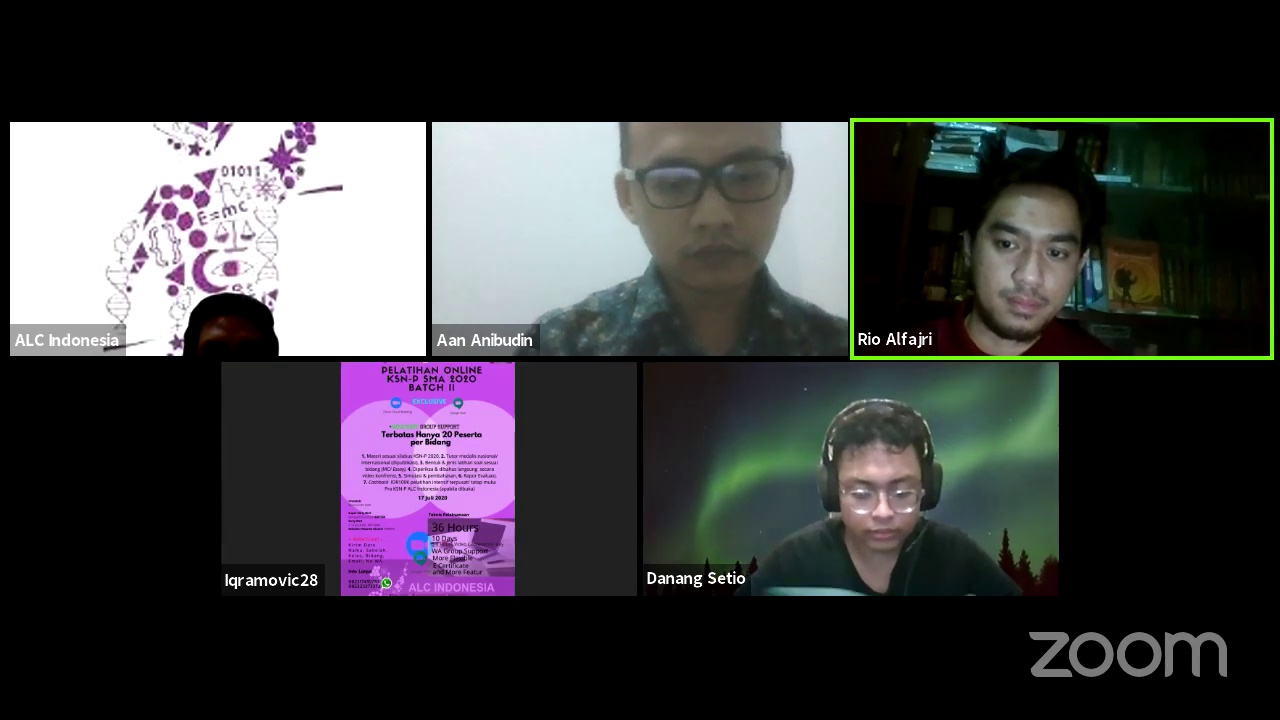Distracted: (819, 410, 947, 562)
Not Distracted: (610, 130, 788, 283), (967, 164, 1084, 339)
